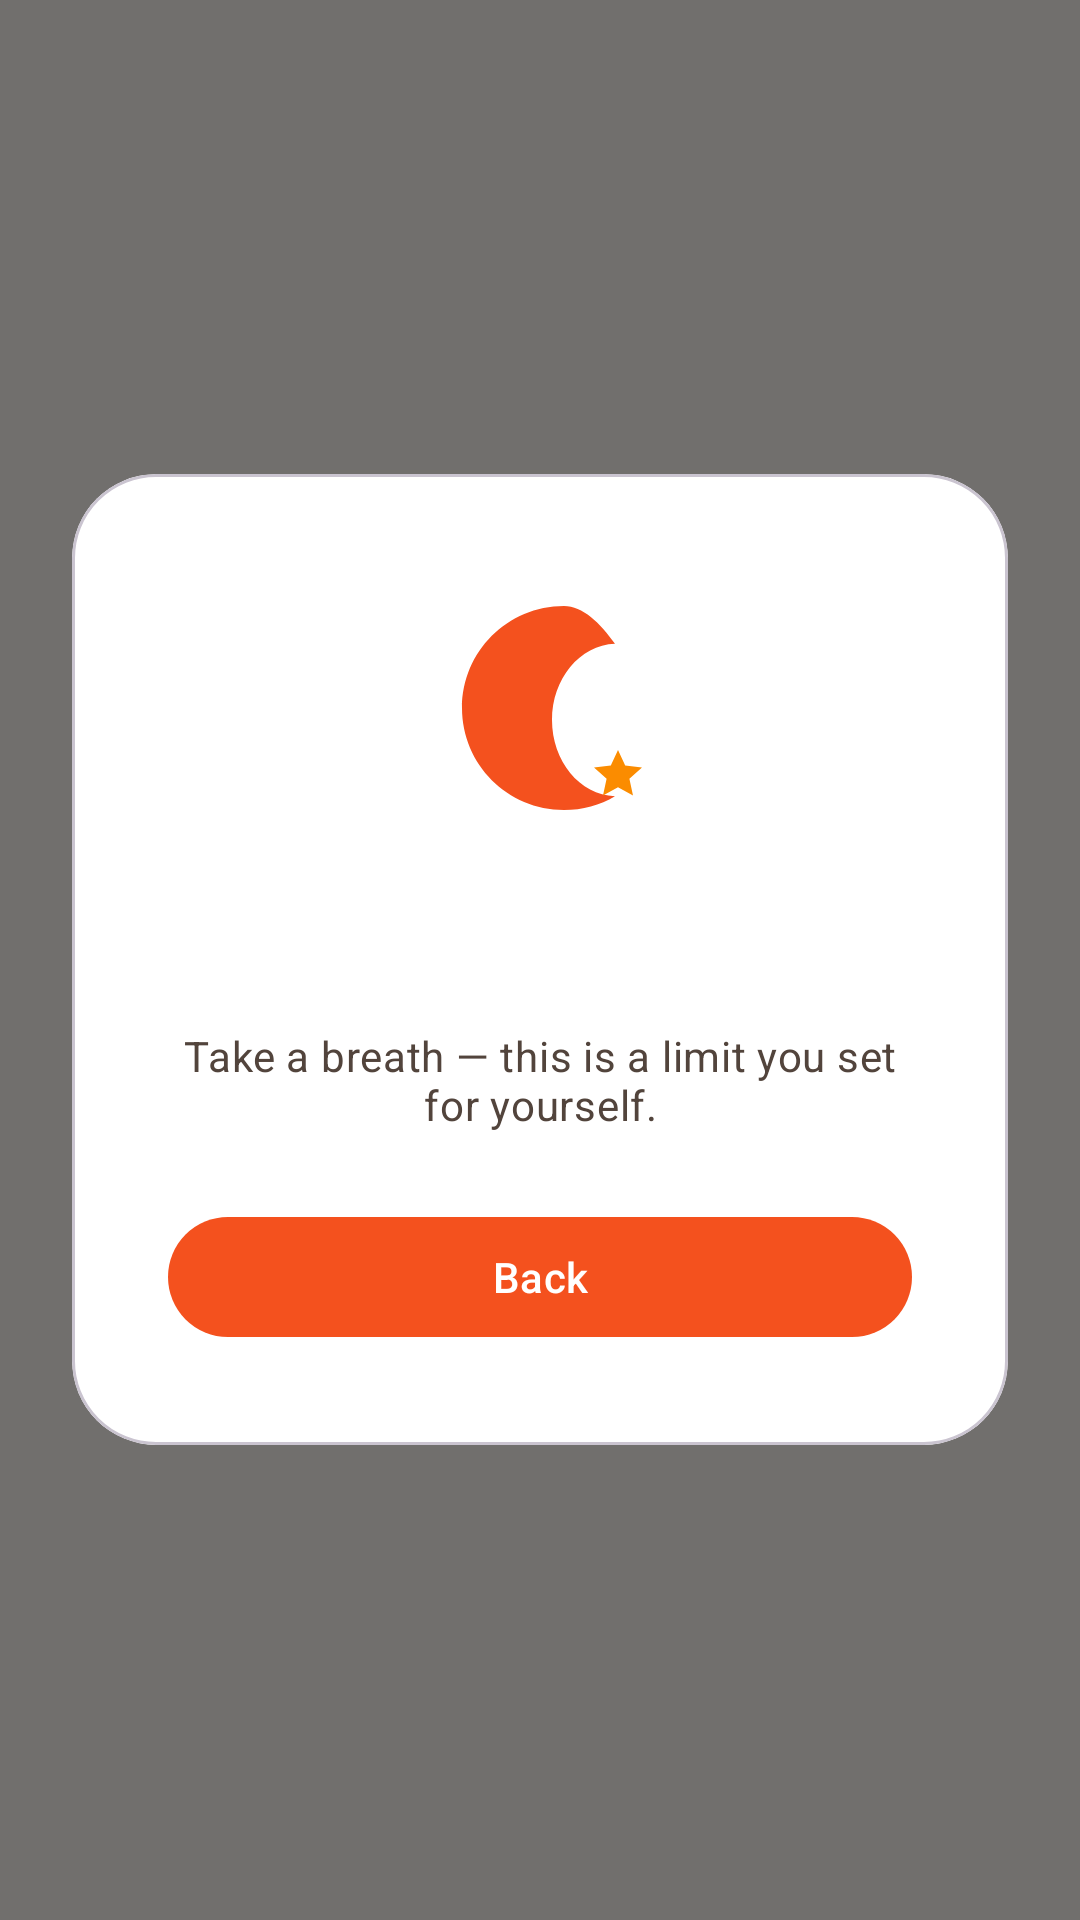

Icon click points for this 1080*1920 phone screenshot, format (x,y):
illust moon: (552,708)
